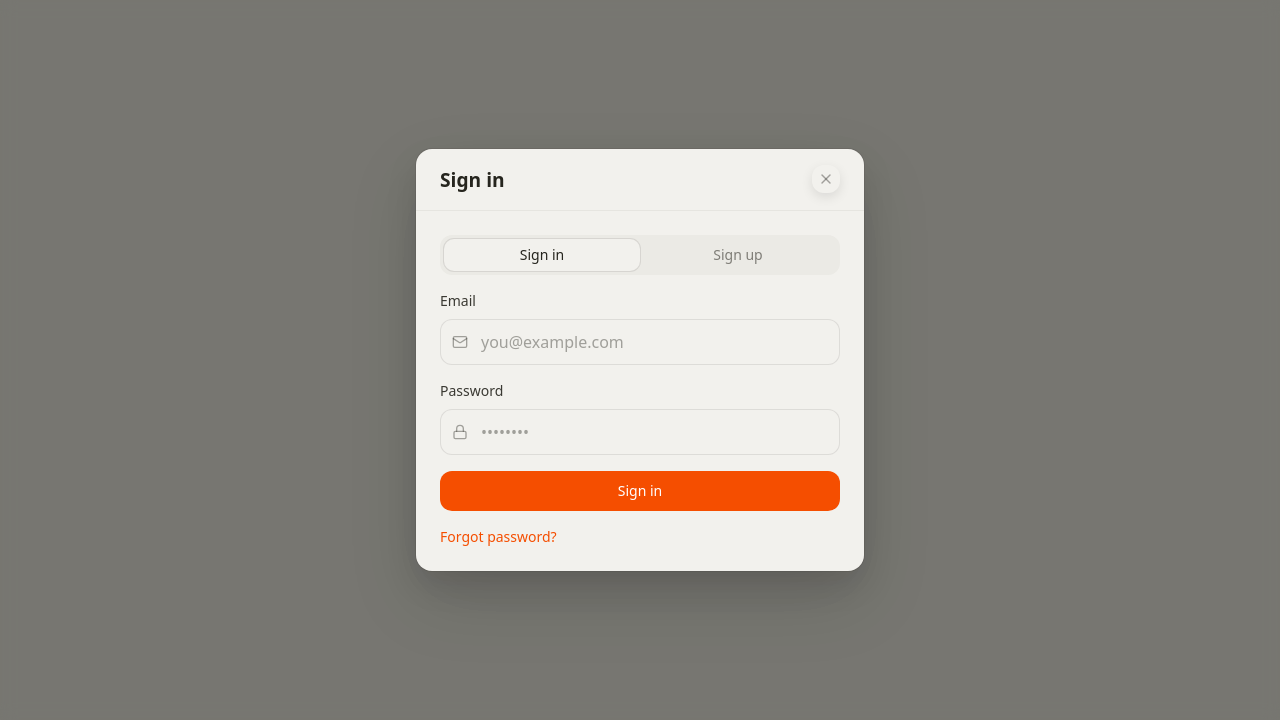
Test: AuthModal › validates mismatched passwords on sign up
This screenshot has width=1280, height=720.
Click the button with test id "auth-tab-signup".
click(738, 255)  # box [640,239,836,271]
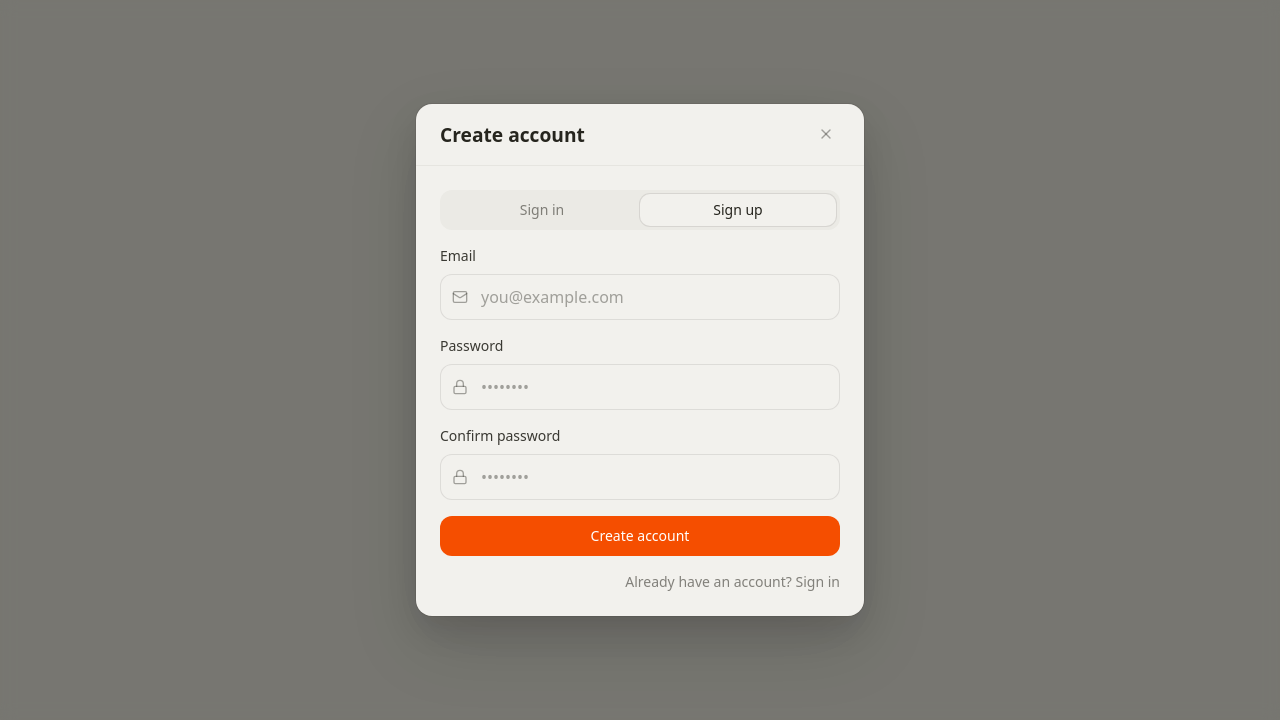
Type "a@b.com" into the field labelled "Email".
click(640, 297); type("a@b.com")  # box [440,274,840,320]
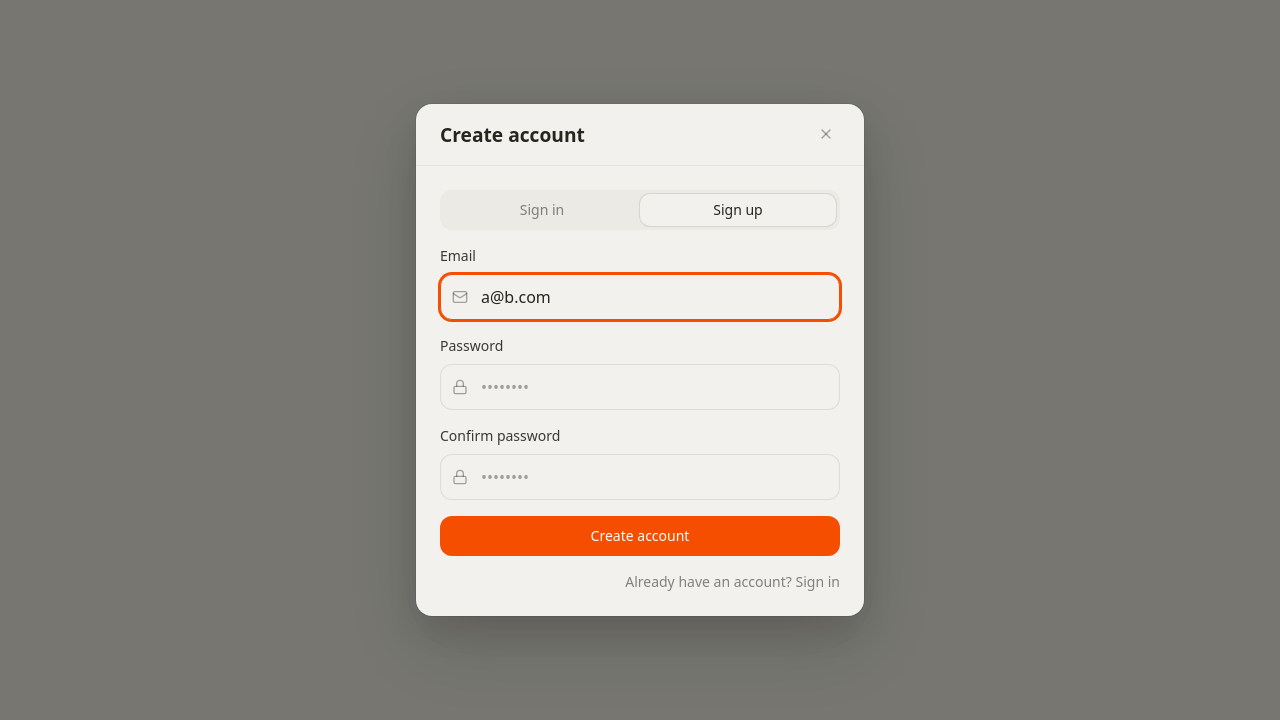
Type "secret" into the password field labelled "Password".
click(640, 387); type("secret")  # box [440,364,840,410]
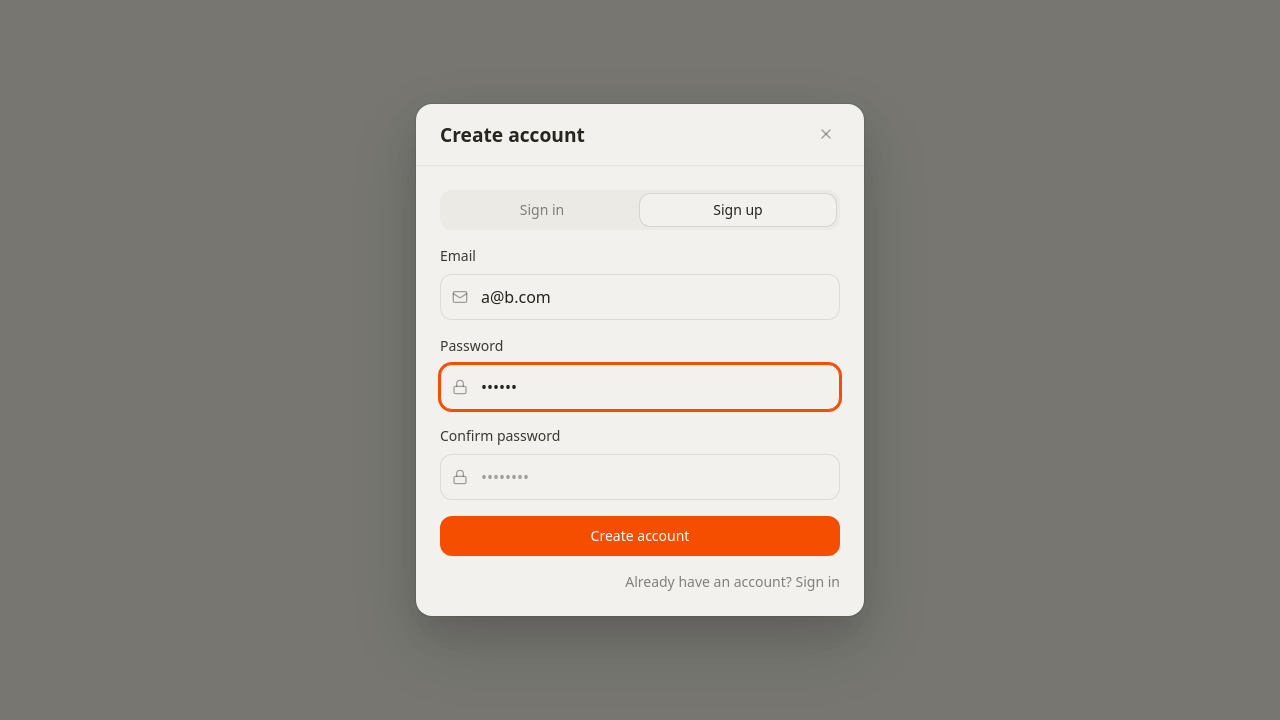
Type "different" into the password field labelled "Confirm password".
click(640, 477); type("different")  # box [440,454,840,500]
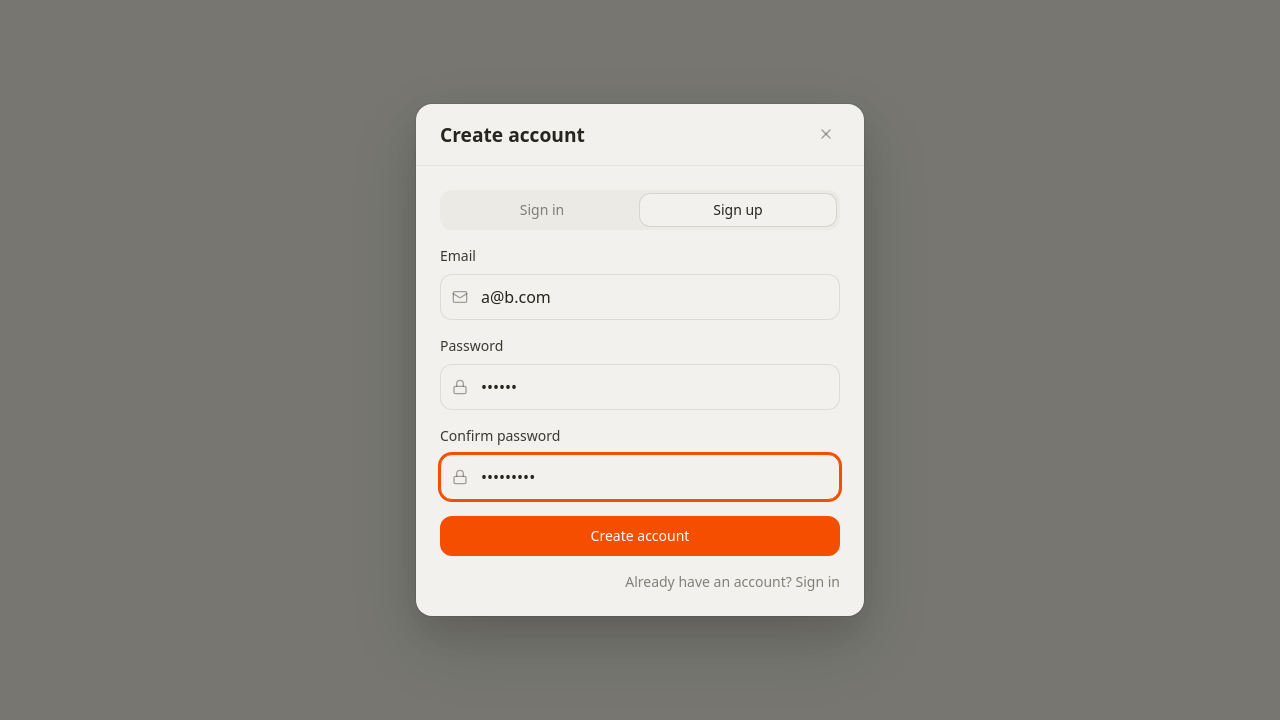
Click the button with test id "auth-submit".
click(640, 536)  # box [440,516,840,556]
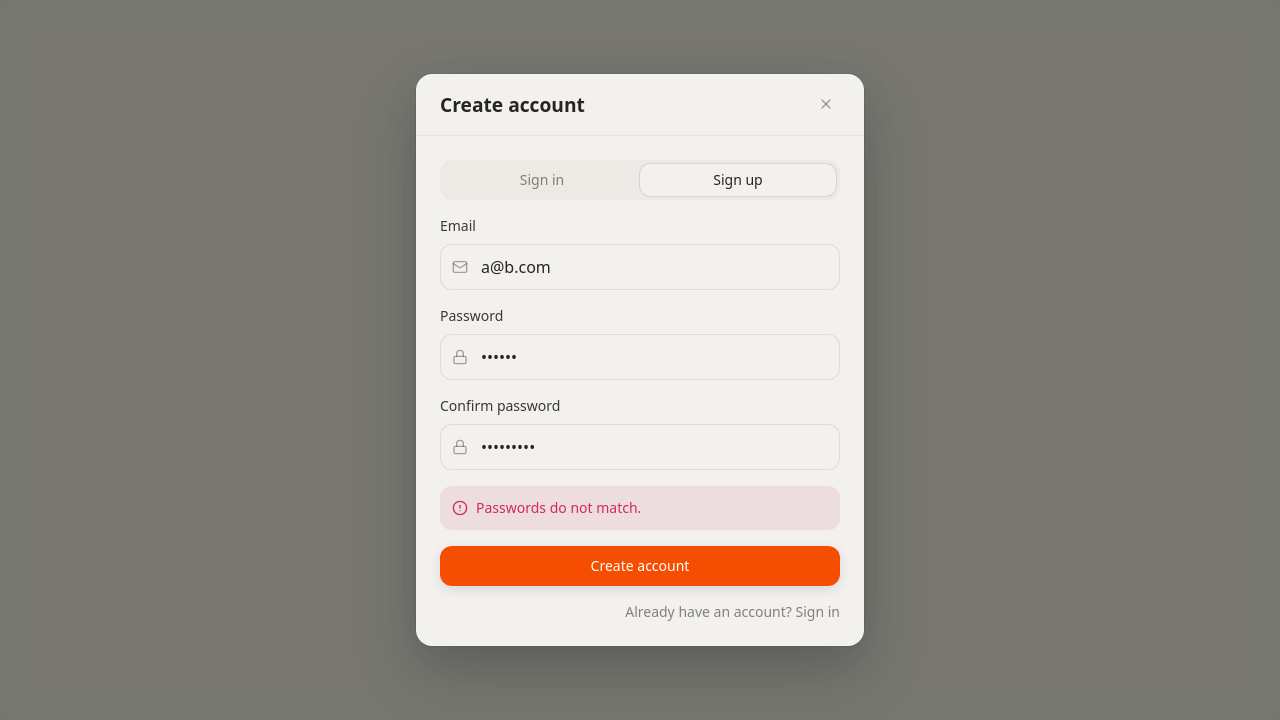
Expected: the text "Passwords do not match." is shown, [440,486,840,530]
